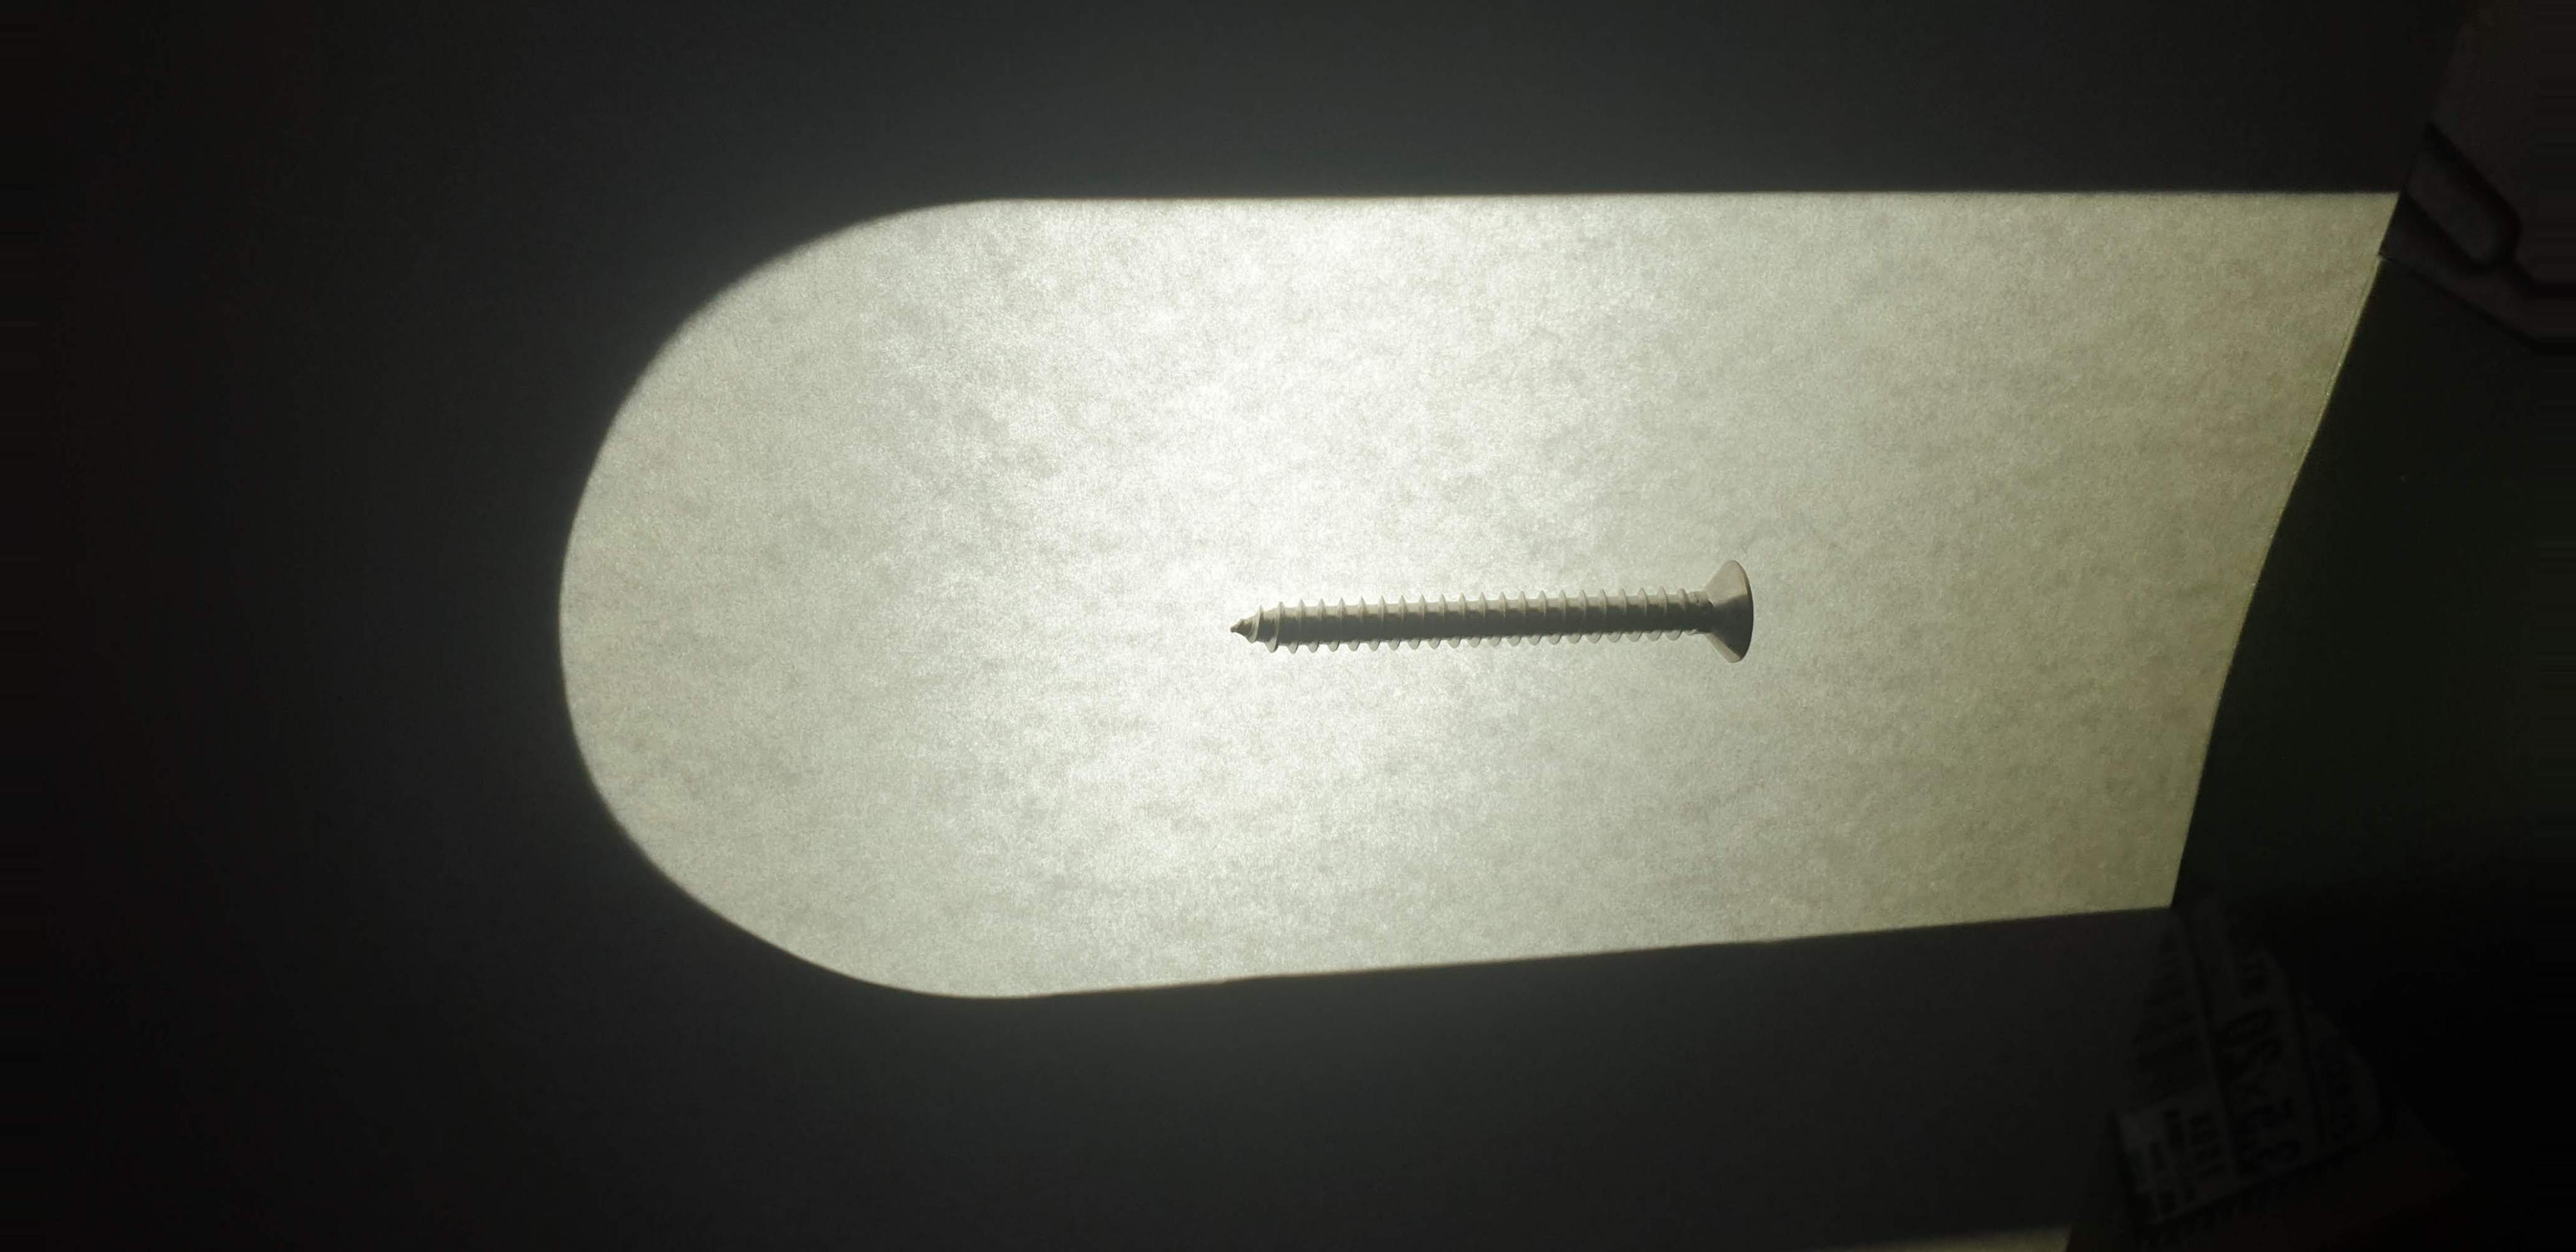S001: (1207, 526, 1782, 711)
